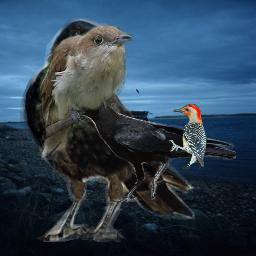Crow: (20, 18, 195, 242), (64, 98, 236, 202)
Cuckoo: (37, 23, 133, 160)
Woodpecker: (169, 104, 208, 171)
